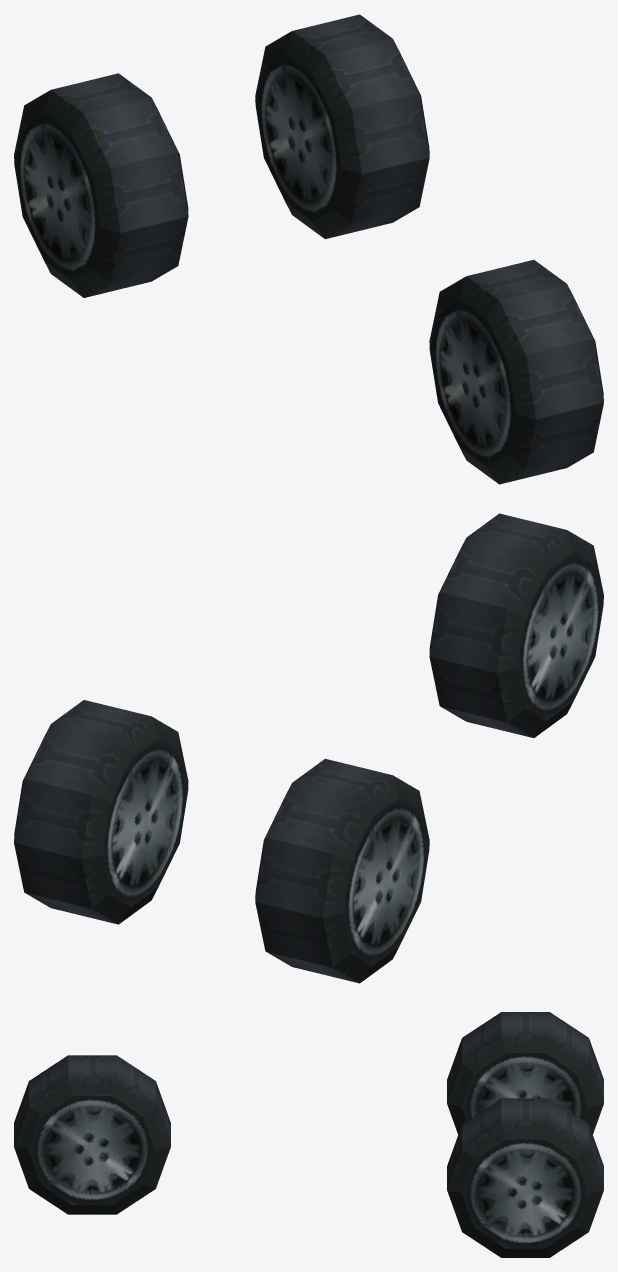
Rendered from Kart 5 Wheels.glb.
The picture shows the model from 3 angles, top to bottom: view 1: azimuth 30°, elevation 25°; view 2: azimuth 150°, elevation 25°; view 3: azimuth 270°, elevation 25°; orthographic projection. The views are drawn at different scales.
Parts seen in each view (by area): view 1: left_wheel, front_wheel, right_wheel; view 2: right_wheel, front_wheel, left_wheel; view 3: front_wheel, left_wheel, right_wheel.
Part boxes in pixels (left/top/right/bottom): left_wheel: left=255, top=14, right=429, bottom=239; front_wheel: left=429, top=260, right=603, bottom=484; right_wheel: left=14, top=73, right=188, bottom=297; right_wheel: left=255, top=758, right=429, bottom=983; front_wheel: left=429, top=513, right=603, bottom=737; left_wheel: left=14, top=700, right=188, bottom=924; front_wheel: left=14, top=1055, right=170, bottom=1214; left_wheel: left=447, top=1098, right=603, bottom=1257; right_wheel: left=447, top=1012, right=603, bottom=1134.
Bounding box in the file's own units: 1.89 × 1.01 × 4.
1 material, 1 textured.
